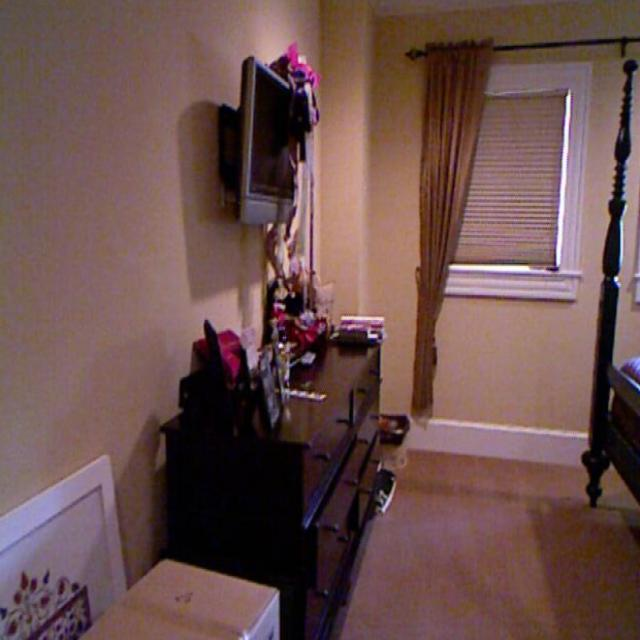beside table: (190, 307, 409, 586)
television: (240, 54, 328, 238)
window: (432, 70, 580, 294)
